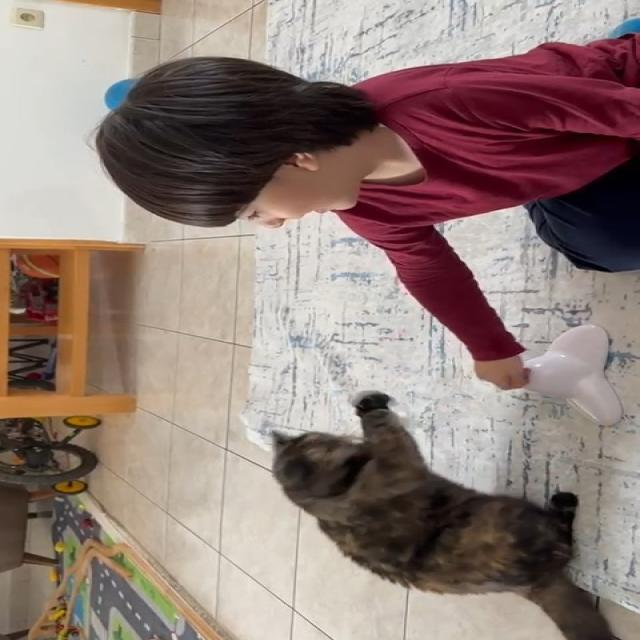authorized: (268, 390, 621, 640)
